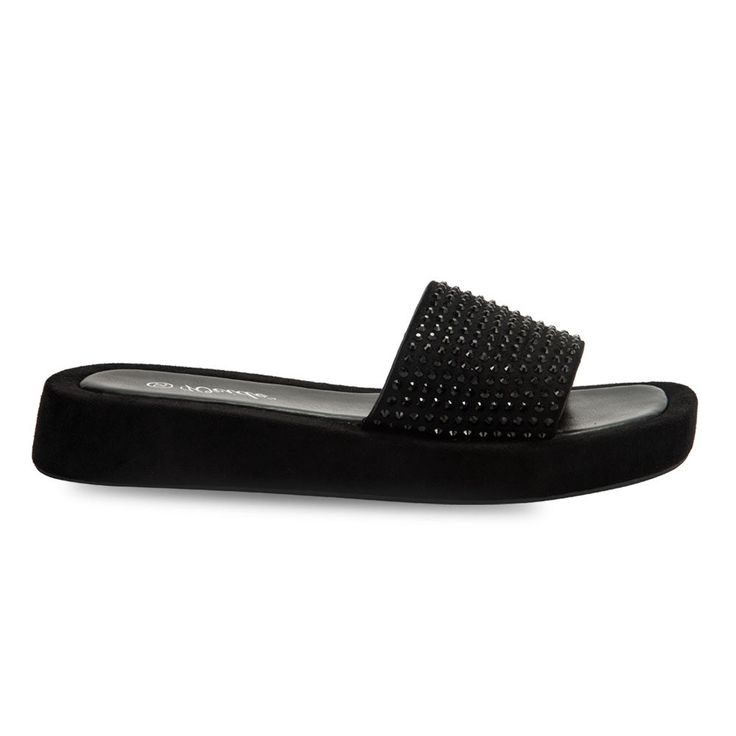gamuza: (31, 363, 699, 505)
